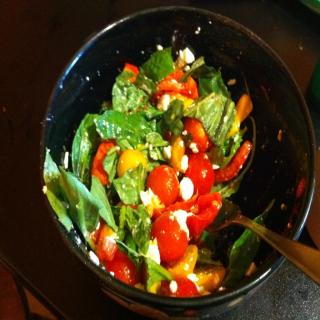tomato: (152, 208, 194, 264)
